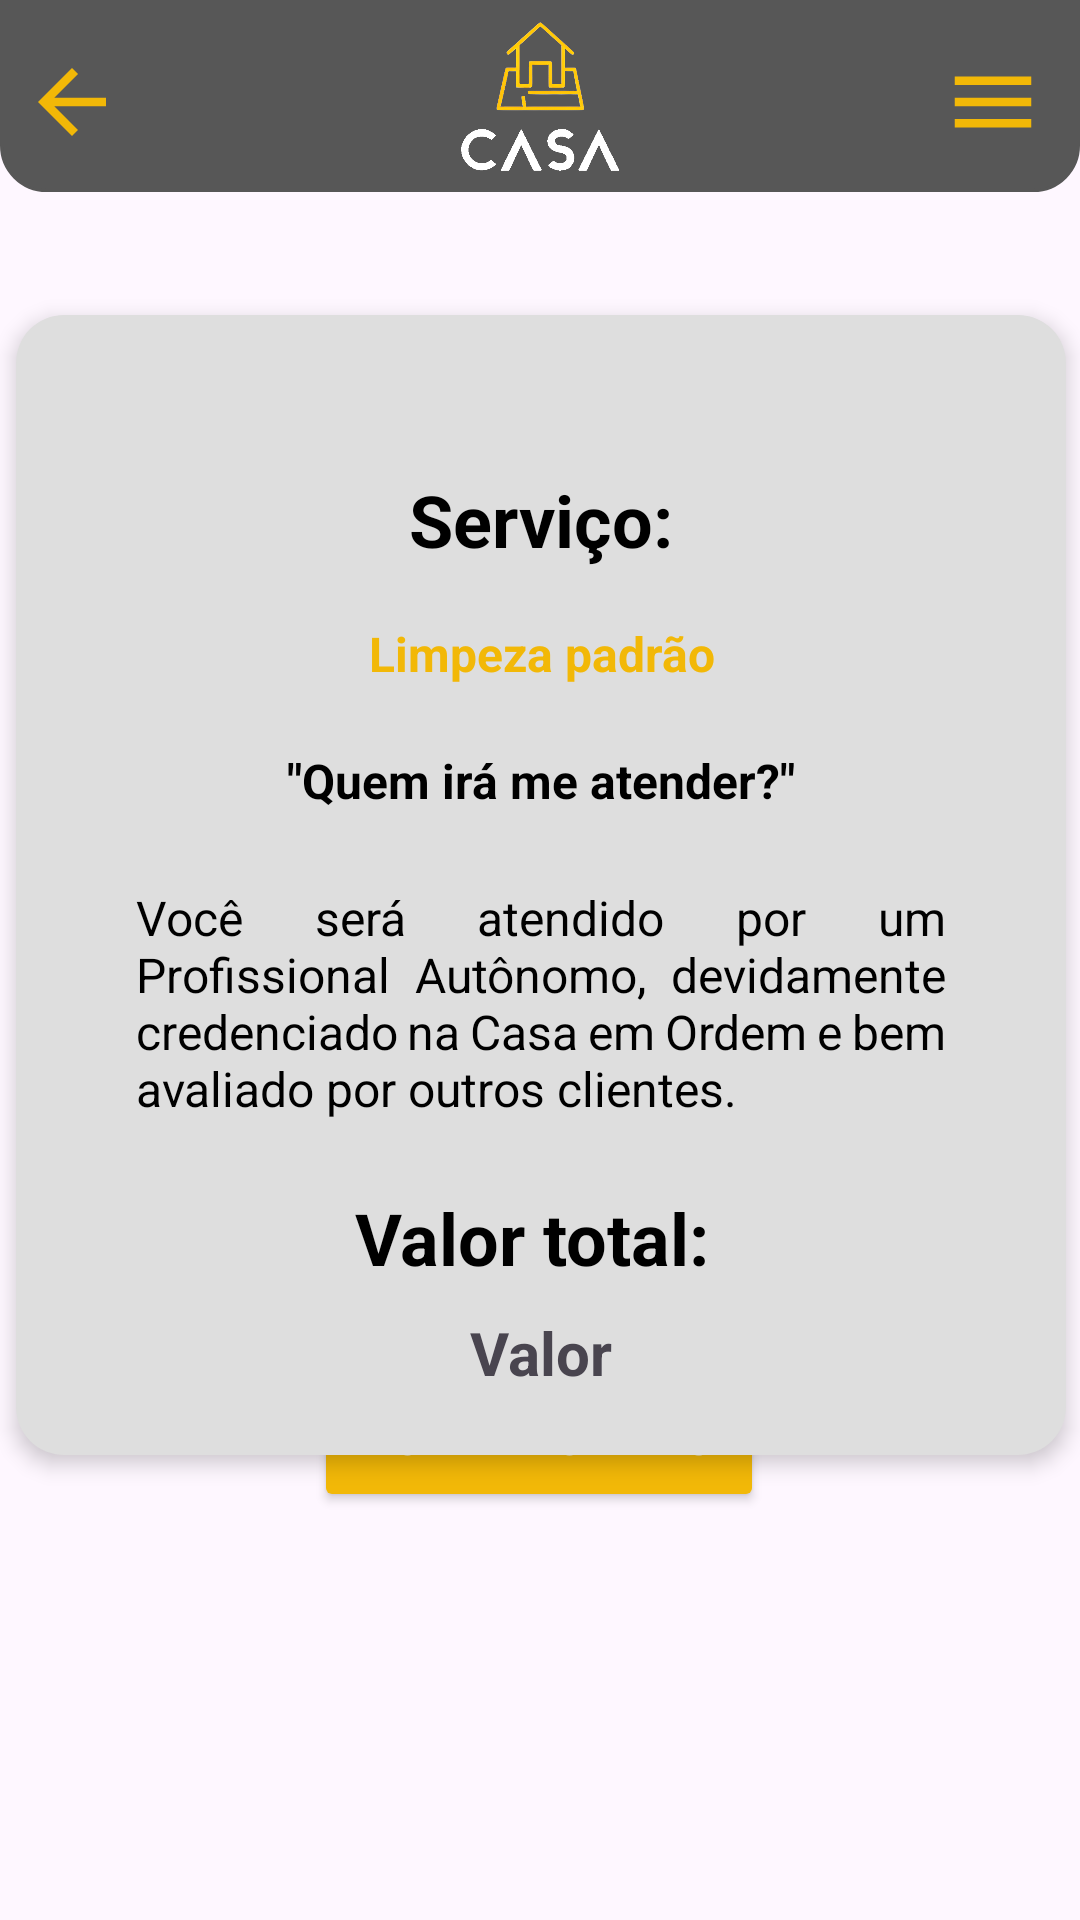

Icons on this 1080px x 1920px Android screen, each with its box as (x1, y1, x2, y2):
arrow back: (38, 68, 106, 136)
menu: (954, 76, 1032, 128)
